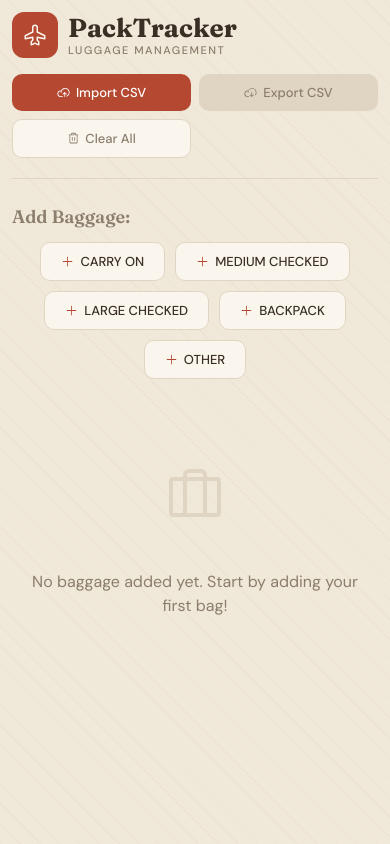
Test case: App › can clear all data with confirmation
Expected: the heading "Add Baggage:" is shown, top-left (12, 205), bottom-right (130, 228)
Note: Add a baggage first
Click the button "CARRY ON". click: click(103, 262)
box: top-left (40, 242), bottom-right (165, 281)
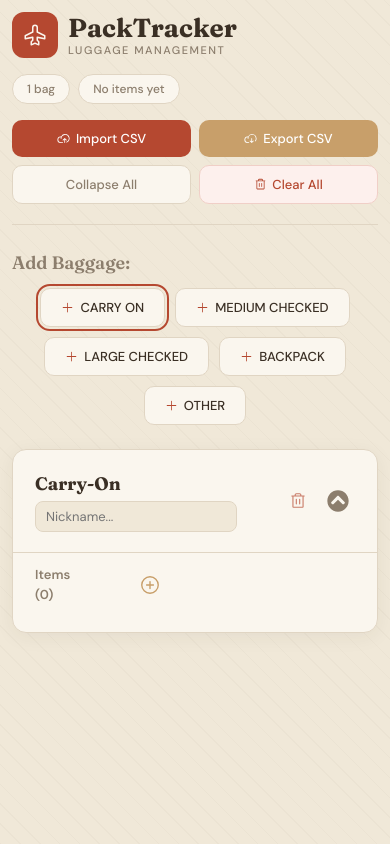
Note: Clear all data
Click the button "Clear All". click: click(288, 184)
box: top-left (199, 165), bottom-right (378, 204)
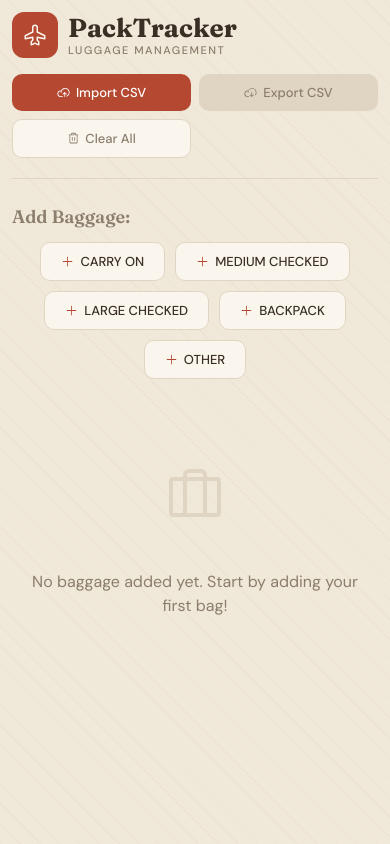
Expected: the text "No baggage added yet. Start by adding your first bag!" is shown, top-left (32, 570), bottom-right (358, 618)
